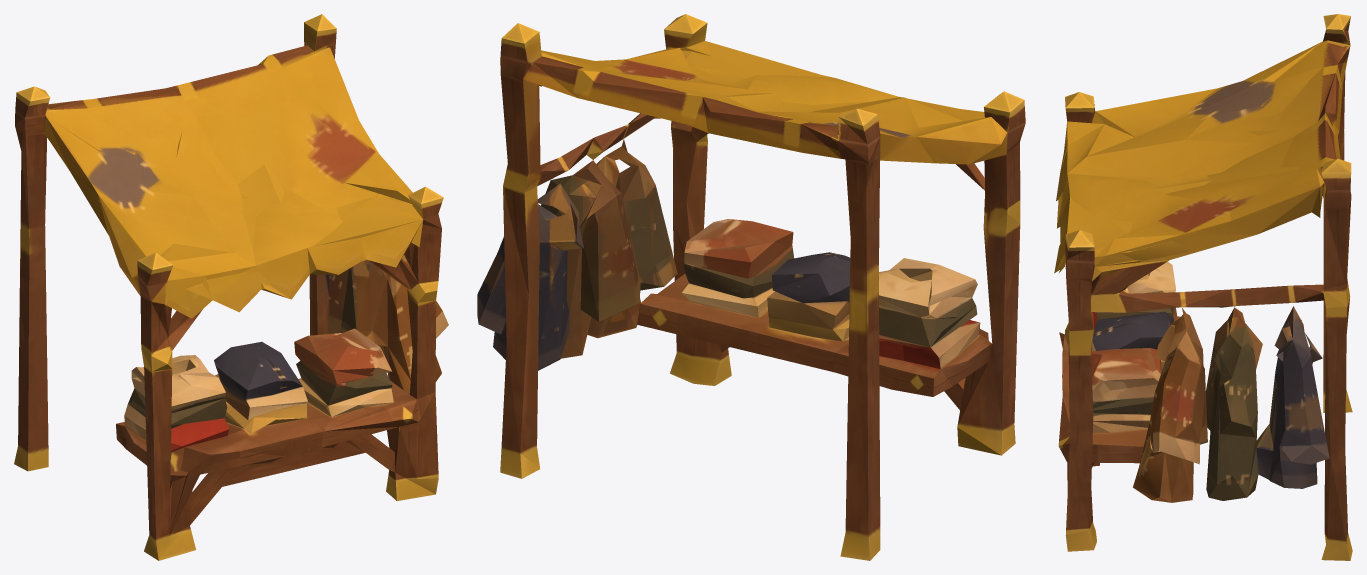
Rendered from TWN_PRP_stall_cloth_A.glb.
The picture shows the model from 3 angles, left to right: view 1: azimuth 30°, elevation 25°; view 2: azimuth 150°, elevation 25°; view 3: azimuth 270°, elevation 25°; orthographic projection. The views are drawn at different scales.
Visible parts, largest first — view 1: Mesh_0; view 2: Mesh_0; view 3: Mesh_0.
Part boxes in pixels (x1,y1,x2,y2): Mesh_0: [14, 14, 448, 560]; Mesh_0: [477, 14, 1025, 560]; Mesh_0: [1054, 14, 1352, 560].
Bounding box in the file's own units: 1.84 × 1.9 × 1.28.
1 material, 1 textured.
